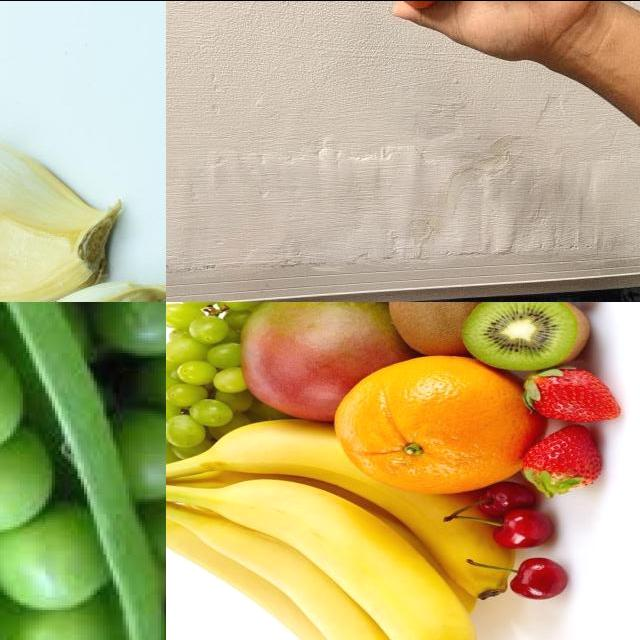garlic: (1, 113, 132, 302)
